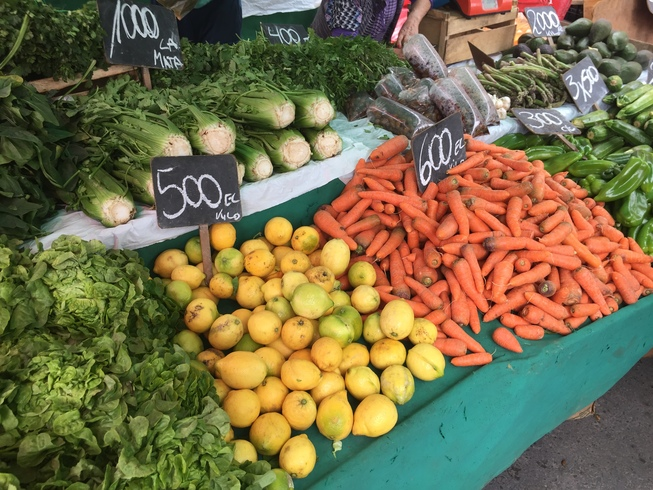precio: (144, 154, 248, 231), (97, 1, 188, 81), (408, 108, 478, 199), (508, 101, 583, 150), (559, 52, 611, 113), (258, 18, 314, 51), (522, 1, 564, 39)
